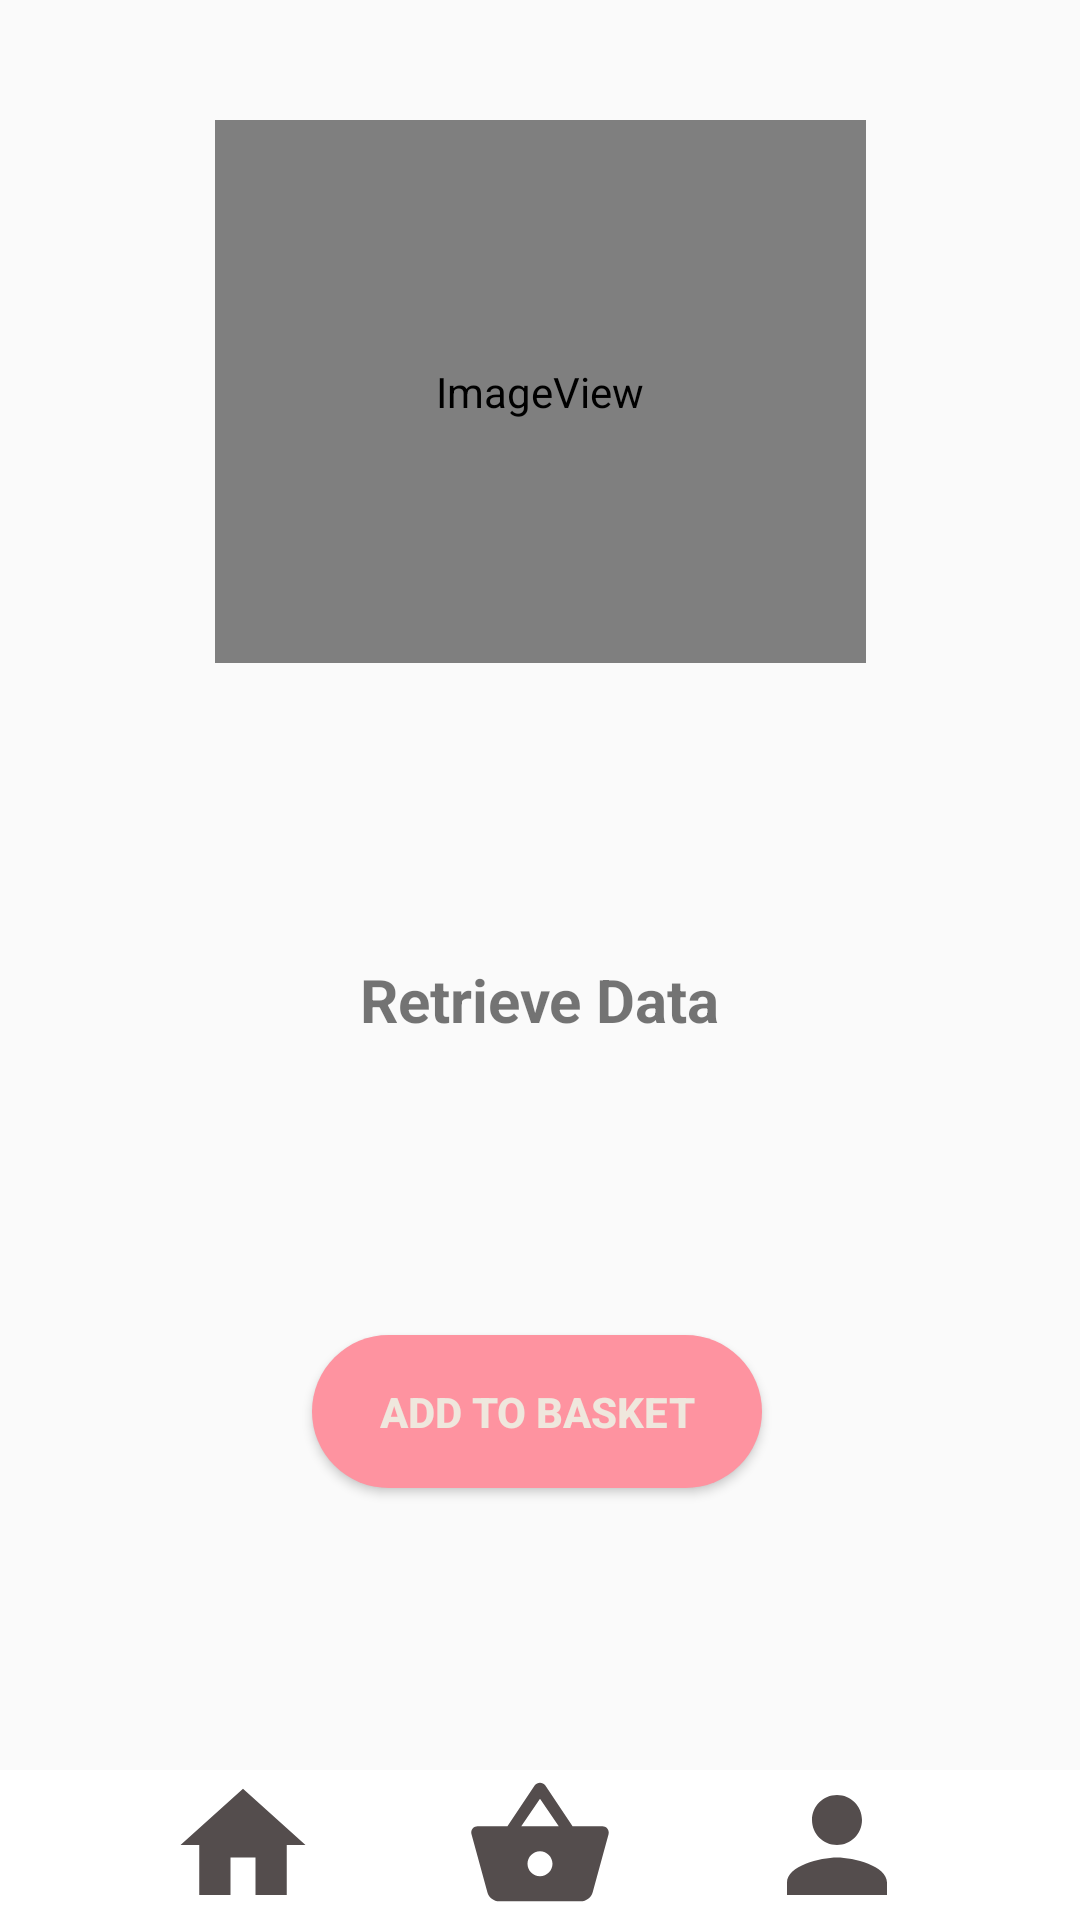

Where to tap for icons on this 1080 × 1920 app screen, as (x=x, y=y):
basket: (x=540, y=1842)
home: (x=243, y=1842)
person: (x=837, y=1845)
